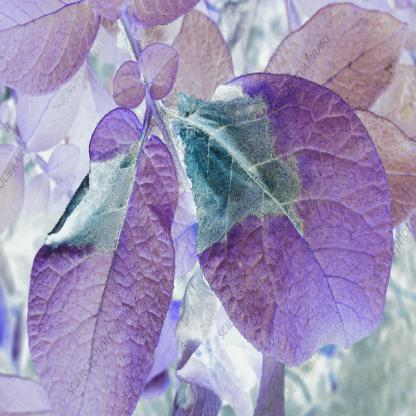Potato leaf late blight: (182, 59, 391, 372), (29, 106, 184, 415)
